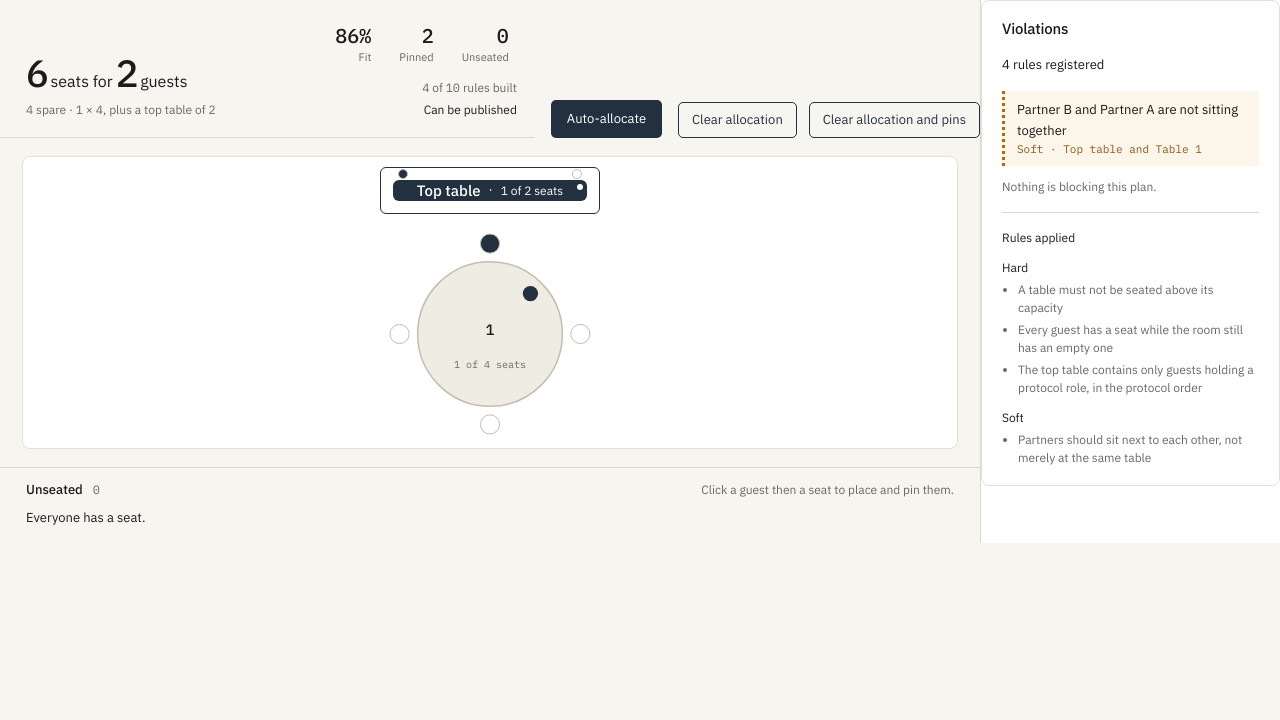
Scenario: clearing the allocation does not null the score while the guest list still carries partner data › leaves the breakdown open, now showing an honest 0 rather than closing to violations (TT-46, TT-47, TT-48)
Click the button "Auto-allocate".
click(606, 119)  # box [551, 100, 662, 138]
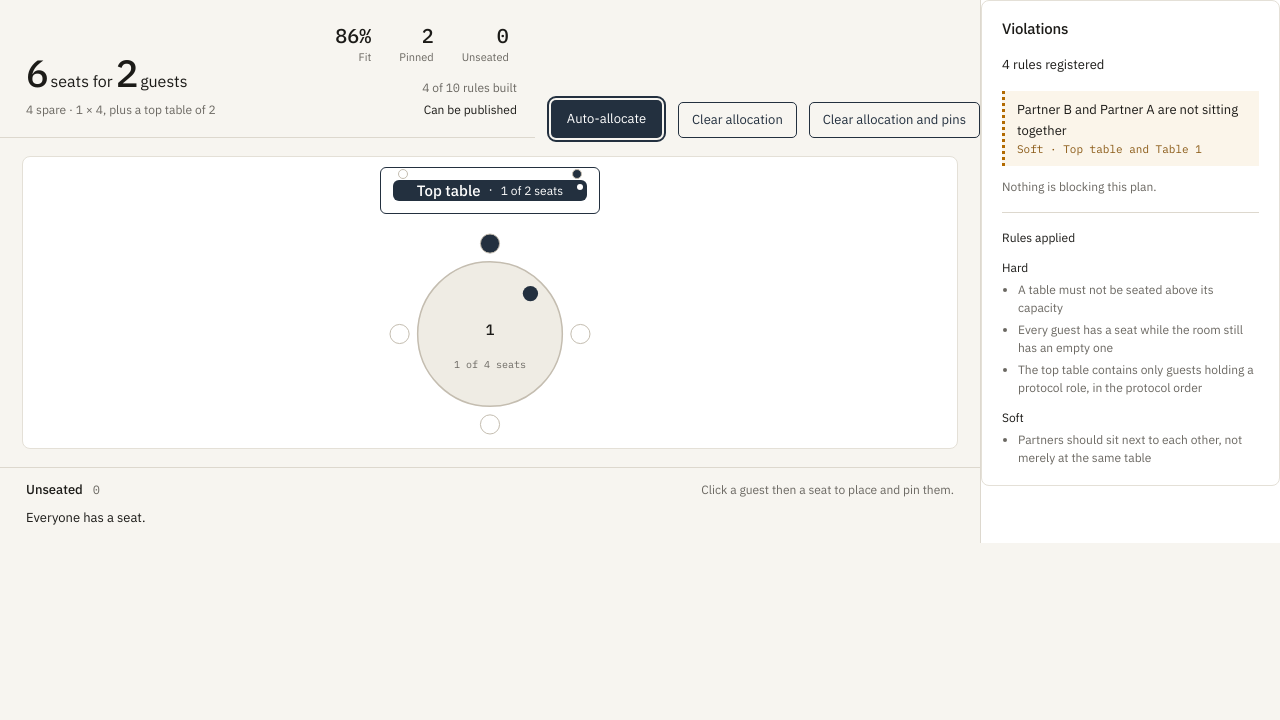
Click the button "86% Fit".
click(353, 47)  # box [327, 22, 379, 71]
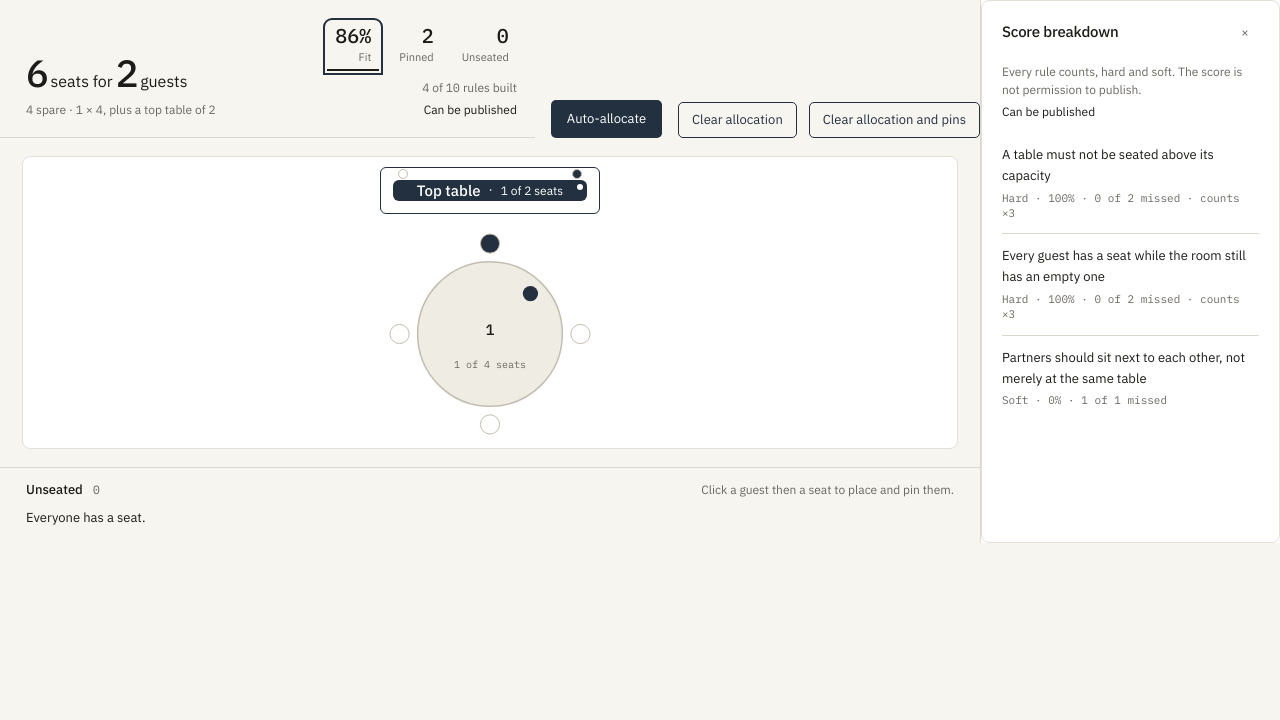
Click the button "Clear allocation and pins".
click(894, 120)  # box [809, 102, 980, 138]
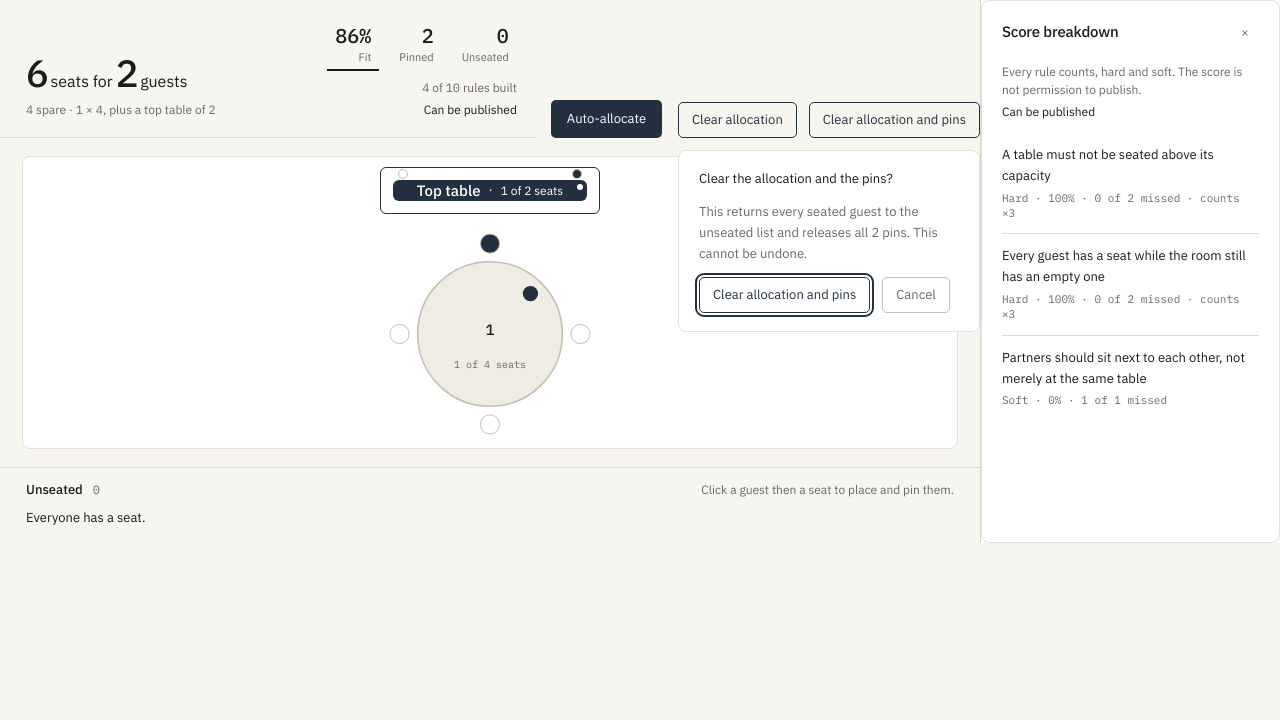
Click the button "Clear allocation and pins" below "pins. This cannot be undone.".
click(785, 295)  # box [699, 277, 870, 313]
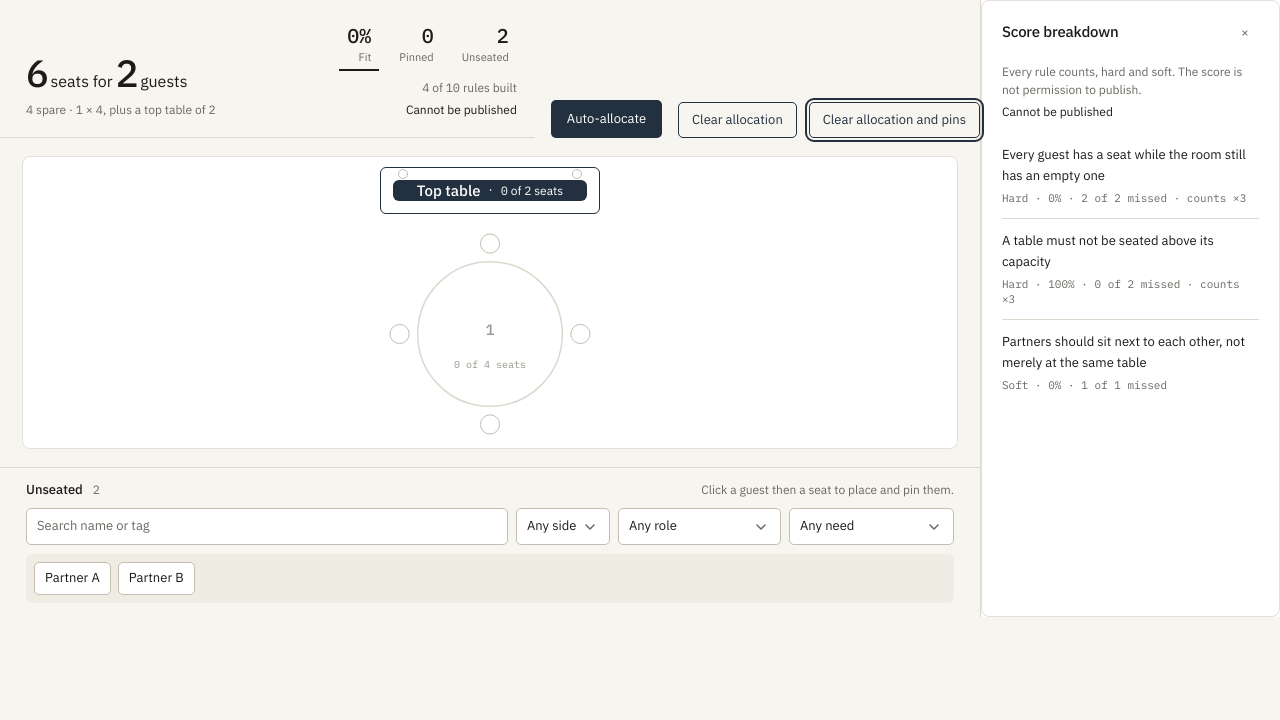
Expected: the button "0% Fit" is shown, [339, 22, 379, 71]
